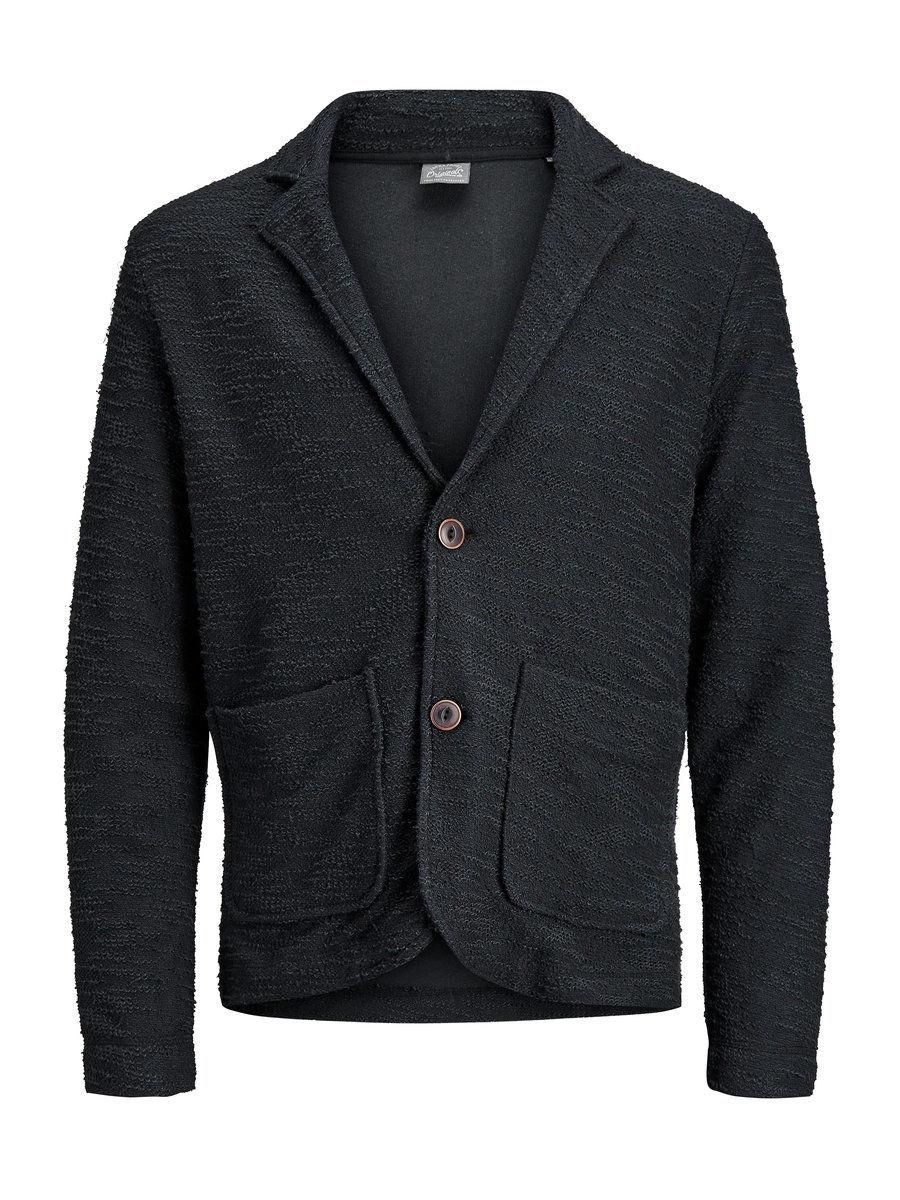teeshirt: (45, 80, 851, 1114)
